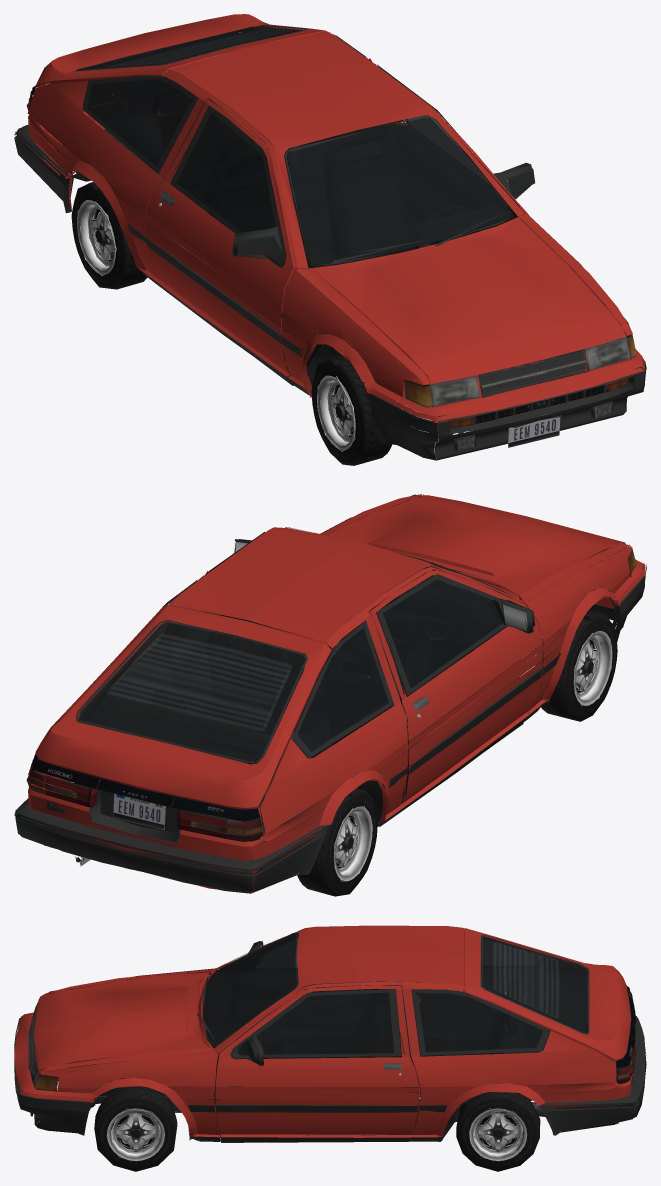
File: tiara_lod1.glb
3 views of the same model, one above another, from view 1: azimuth 30°, elevation 25°; view 2: azimuth 150°, elevation 25°; view 3: azimuth 270°, elevation 25° (orthographic). The views are drawn at different scales.
Parts seen in each view (by area): view 1: TiaraGT83_Body_TiaraGT83_Bodymat_0, TiaraGT83_Interior_UCB_Interiors_2_0, TiaraGT83_Hood_TiaraGT83_Bodymat_0, TiaraGT83_Windshield_UCB_Lights_and_Glass_Transperent_0, TiaraGT83_Bottom_UCB_BOTTOM_0, TiaraGT83_Bumper_FrontA_inner_UCB_BOTTOM_0, TiaraGT83_Glass_Passenger_UCB_Lights_and_Glass_Transperent_0, TiaraGT83_Trunkdoor_TiaraGT83_Bodymat_0, wheel_FR, TiaraGT83_Glass_UCB_Lights_and_Glass_Transperent_0, wheel_RR, TiaraGT83_Bumper_FrontA_TiaraGT83_Bodymat_0 (+7 smaller); view 2: TiaraGT83_Body_TiaraGT83_Bodymat_0, TiaraGT83_Interior_UCB_Interiors_2_0, TiaraGT83_Trunkdoor_Glass_UCB_Lights_and_Glass_Transperent_0, TiaraGT83_Trunkdoor_TiaraGT83_Bodymat_0, TiaraGT83_Hood_TiaraGT83_Bodymat_0, TiaraGT83_Bottom_UCB_BOTTOM_0, TiaraGT83_Bumper_rearA_Trim_UCB_BOTTOM_0, TiaraGT83_Glass_Passenger_UCB_Lights_and_Glass_Transperent_0, TiaraGT83_Glass_UCB_Lights_and_Glass_Transperent_0, wheel_FR, wheel_RR, TiaraGT83_Brakelights_UCB_Lights_and_Glass_0 (+3 smaller); view 3: TiaraGT83_Body_TiaraGT83_Bodymat_0, TiaraGT83_Interior_UCB_Interiors_2_0, TiaraGT83_Hood_TiaraGT83_Bodymat_0, TiaraGT83_Bottom_UCB_BOTTOM_0, TiaraGT83_Glass_Driver_UCB_Lights_and_Glass_Transperent_0, TiaraGT83_Glass_UCB_Lights_and_Glass_Transperent_0, TiaraGT83_Trunkdoor_Glass_UCB_Lights_and_Glass_Transperent_0, TiaraGT83_Trunkdoor_TiaraGT83_Bodymat_0, TiaraGT83_Windshield_UCB_Lights_and_Glass_Transperent_0, wheel_FL, wheel_RL, TiaraGT83_Bumper_rearA_Trim_UCB_BOTTOM_0 (+6 smaller).
Part boxes in pixels (x1=…): TiaraGT83_Body_TiaraGT83_Bodymat_0: x1=27, y1=31, x2=632, y2=436; TiaraGT83_Interior_UCB_Interiors_2_0: x1=75, y1=28, x2=518, y2=375; TiaraGT83_Hood_TiaraGT83_Bodymat_0: x1=312, y1=218, x2=625, y2=383; TiaraGT83_Windshield_UCB_Lights_and_Glass_Transperent_0: x1=287, y1=117, x2=513, y2=264; TiaraGT83_Bottom_UCB_BOTTOM_0: x1=32, y1=34, x2=588, y2=418; TiaraGT83_Bumper_FrontA_inner_UCB_BOTTOM_0: x1=366, y1=357, x2=646, y2=460; TiaraGT83_Glass_Passenger_UCB_Lights_and_Glass_Transperent_0: x1=176, y1=113, x2=275, y2=232; TiaraGT83_Trunkdoor_TiaraGT83_Bodymat_0: x1=35, y1=14, x2=330, y2=87; wheel_FR: x1=311, y1=355, x2=392, y2=465; TiaraGT83_Glass_UCB_Lights_and_Glass_Transperent_0: x1=87, y1=79, x2=194, y2=166; wheel_RR: x1=71, y1=182, x2=147, y2=289; TiaraGT83_Bumper_FrontA_TiaraGT83_Bodymat_0: x1=364, y1=349, x2=645, y2=421; TiaraGT83_Body_TiaraGT83_Bodymat_0: x1=28, y1=494, x2=632, y2=876; TiaraGT83_Interior_UCB_Interiors_2_0: x1=79, y1=567, x2=519, y2=801; TiaraGT83_Trunkdoor_Glass_UCB_Lights_and_Glass_Transperent_0: x1=78, y1=622, x2=304, y2=761; TiaraGT83_Trunkdoor_TiaraGT83_Bodymat_0: x1=35, y1=605, x2=331, y2=809; TiaraGT83_Hood_TiaraGT83_Bodymat_0: x1=331, y1=495, x2=625, y2=596; TiaraGT83_Bottom_UCB_BOTTOM_0: x1=32, y1=527, x2=610, y2=866; TiaraGT83_Bumper_rearA_Trim_UCB_BOTTOM_0: x1=14, y1=777, x2=329, y2=893; TiaraGT83_Glass_Passenger_UCB_Lights_and_Glass_Transperent_0: x1=383, y1=579, x2=502, y2=687; TiaraGT83_Glass_UCB_Lights_and_Glass_Transperent_0: x1=112, y1=596, x2=388, y2=751; wheel_FR: x1=535, y1=610, x2=617, y2=721; wheel_RR: x1=297, y1=788, x2=377, y2=896; TiaraGT83_Brakelights_UCB_Lights_and_Glass_0: x1=26, y1=763, x2=262, y2=841; TiaraGT83_Body_TiaraGT83_Bodymat_0: x1=28, y1=925, x2=634, y2=1140; TiaraGT83_Interior_UCB_Interiors_2_0: x1=203, y1=933, x2=611, y2=1132; TiaraGT83_Hood_TiaraGT83_Bodymat_0: x1=34, y1=971, x2=210, y2=1071; TiaraGT83_Bottom_UCB_BOTTOM_0: x1=28, y1=932, x2=635, y2=1142; TiaraGT83_Glass_Driver_UCB_Lights_and_Glass_Transperent_0: x1=257, y1=992, x2=394, y2=1054; TiaraGT83_Glass_UCB_Lights_and_Glass_Transperent_0: x1=415, y1=939, x2=544, y2=1052; TiaraGT83_Trunkdoor_Glass_UCB_Lights_and_Glass_Transperent_0: x1=483, y1=936, x2=586, y2=1032; TiaraGT83_Trunkdoor_TiaraGT83_Bodymat_0: x1=464, y1=928, x2=631, y2=1061; TiaraGT83_Windshield_UCB_Lights_and_Glass_Transperent_0: x1=203, y1=933, x2=296, y2=1046; wheel_FL: x1=94, y1=1086, x2=177, y2=1171; wheel_RL: x1=456, y1=1092, x2=540, y2=1171; TiaraGT83_Bumper_rearA_Trim_UCB_BOTTOM_0: x1=539, y1=1016, x2=646, y2=1135.
Size of the model in its own units: 1.81 by 1.33 by 4.36.
Materials: 8 (7 with a texture image).
